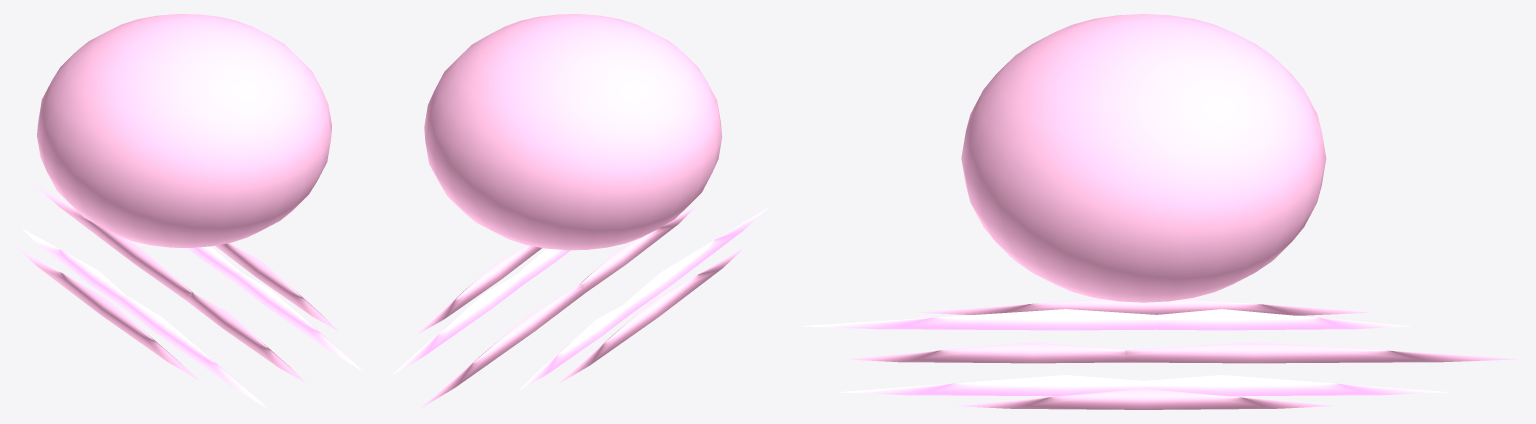
File: petal-drifter.glb
3 views of the same model, side by side, from view 1: azimuth 30°, elevation 25°; view 2: azimuth 150°, elevation 25°; view 3: azimuth 270°, elevation 25° (orthographic). The views are drawn at different scales.
Visible parts, largest first — view 1: bell, tentacle-4, tentacle-5, tentacle-2, tentacle-7, tentacle-6, tentacle-0, tentacle-3, tentacle-1; view 2: bell, tentacle-4, tentacle-2, tentacle-5, tentacle-1, tentacle-0, tentacle-6, tentacle-3, tentacle-7; view 3: bell, tentacle-2, tentacle-5, tentacle-0, tentacle-7, tentacle-1, tentacle-6, tentacle-4, tentacle-3.
Part boxes in pixels (box(x1,y1,x2,y2)): bell: box(37, 14, 331, 247); tentacle-4: box(15, 245, 198, 380); tentacle-5: box(119, 294, 268, 409); tentacle-2: box(32, 182, 193, 300); tentacle-7: box(234, 271, 363, 371); tentacle-6: box(186, 292, 305, 382); tentacle-0: box(215, 243, 337, 330); tentacle-3: box(21, 228, 125, 304); tentacle-1: box(187, 246, 239, 281); bell: box(424, 14, 722, 250); tentacle-4: box(558, 247, 744, 383); tentacle-2: box(419, 284, 585, 409); tentacle-5: box(623, 207, 768, 315); tentacle-1: box(393, 274, 523, 374); tentacle-0: box(417, 245, 541, 334); tentacle-6: box(579, 206, 696, 292); tentacle-3: box(518, 305, 628, 390); tentacle-7: box(517, 248, 570, 284); bell: box(961, 14, 1326, 302); tentacle-2: box(1125, 342, 1518, 363); tentacle-5: box(801, 309, 1156, 330); tentacle-0: box(954, 388, 1332, 409); tentacle-7: box(838, 375, 1143, 396); tentacle-1: box(1144, 375, 1448, 396); tentacle-6: box(844, 342, 1125, 363); tentacle-4: box(917, 298, 1369, 315); tentacle-3: box(1157, 309, 1410, 330).
Size of the model in its own units: 1.72 by 1.68 by 3.41.
